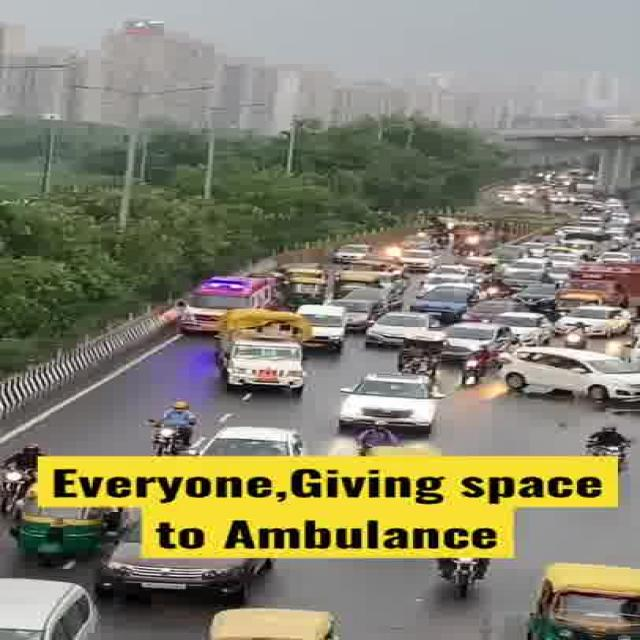ambulance: (178, 272, 275, 332)
